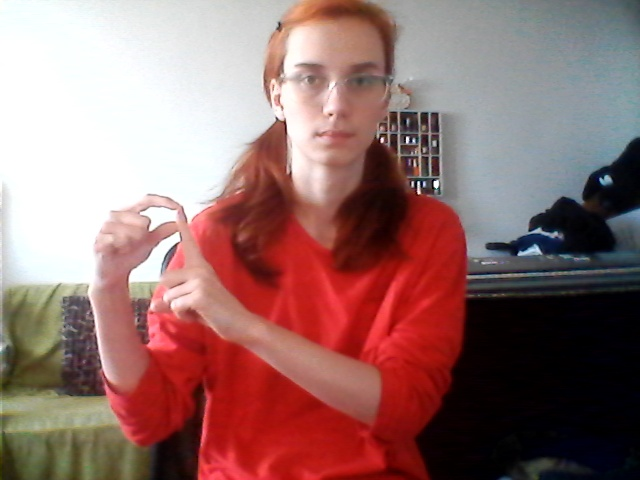p: (83, 194, 222, 332)
